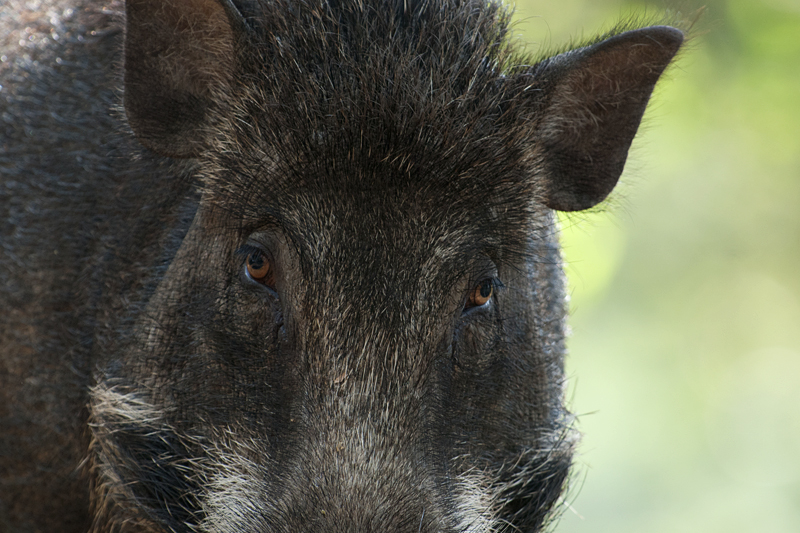wild boar: (1, 1, 692, 532)
